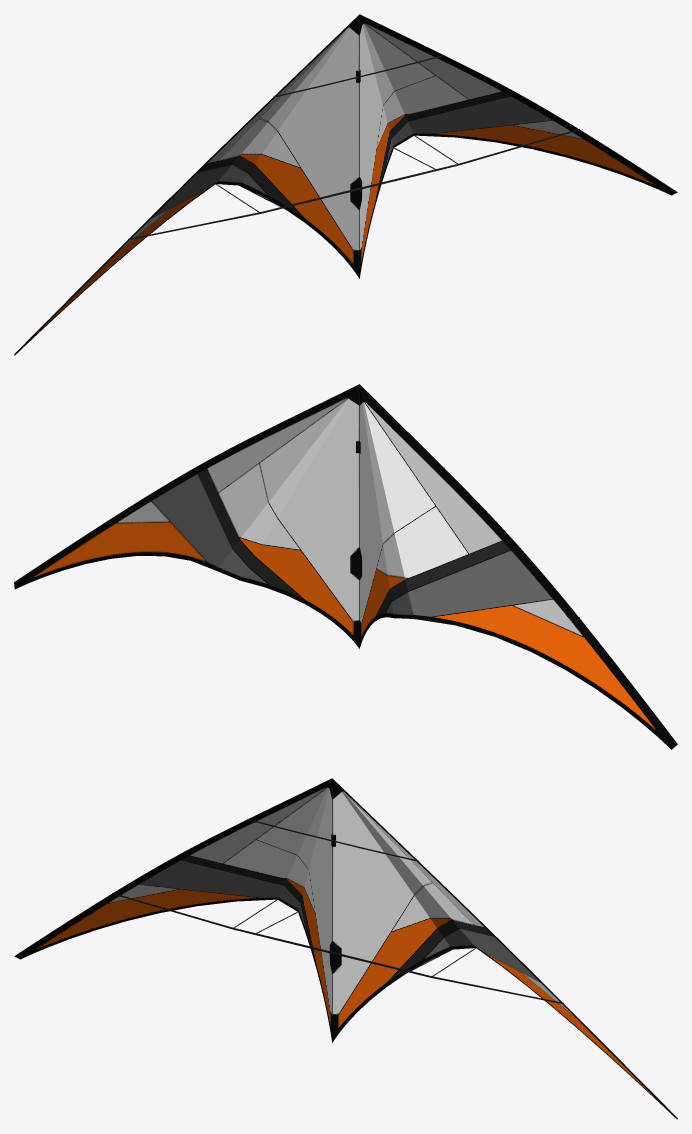
File: EOL-Mini-2015.obj
The picture shows the model from 3 angles, top to bottom: view 1: azimuth 30°, elevation 25°; view 2: azimuth 150°, elevation 25°; view 3: azimuth 330°, elevation 25°; orthographic projection.
Bounding box in the file's own units: 2240 × 882 × 262.
Materials: 2 (1 with a texture image).
